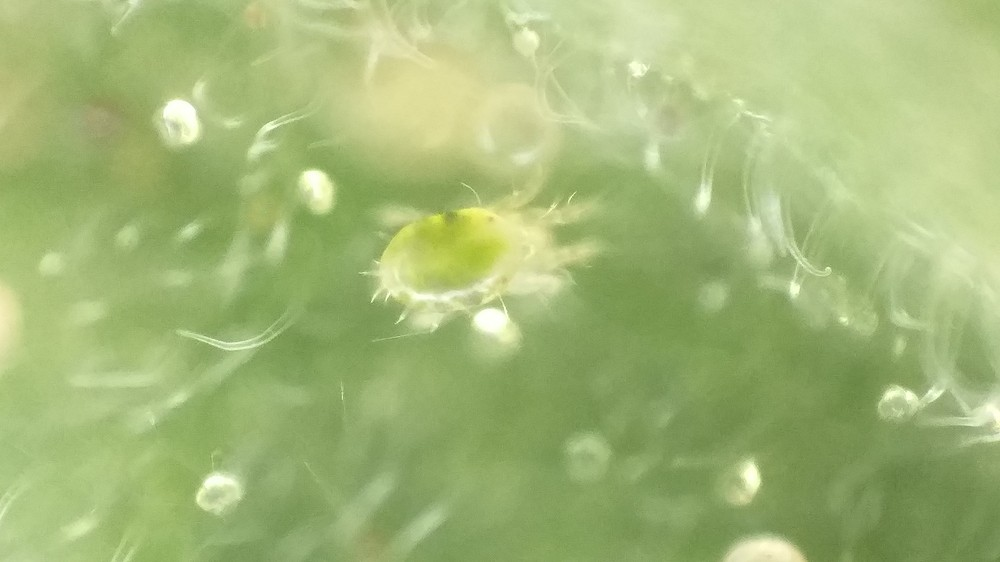Aracnido Rojo: (358, 167, 610, 327)
